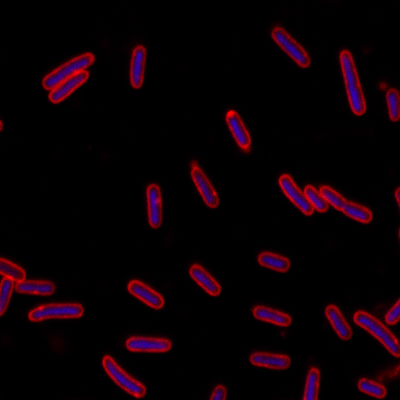Rifampicin: (317, 183, 375, 227), (352, 306, 400, 359), (40, 50, 96, 91), (99, 354, 148, 399), (337, 47, 367, 117), (267, 24, 311, 69), (275, 172, 315, 217), (46, 66, 91, 105), (188, 162, 219, 210), (186, 262, 222, 297), (224, 108, 252, 152), (126, 278, 165, 309), (26, 301, 85, 321), (250, 301, 293, 328), (323, 303, 352, 342), (247, 349, 292, 372), (144, 183, 165, 231), (128, 43, 148, 91), (123, 334, 173, 353), (303, 183, 331, 216), (354, 375, 389, 400), (257, 250, 292, 273), (14, 278, 57, 295), (384, 86, 400, 124)
